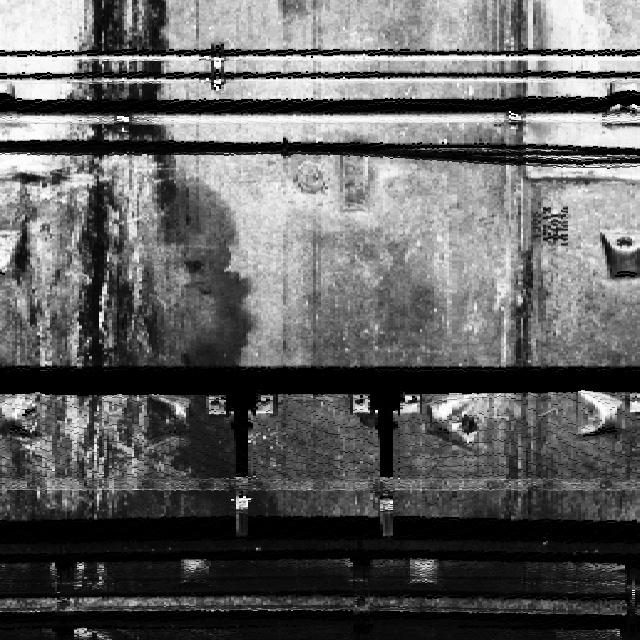leakage: (0, 0, 259, 517), (493, 2, 556, 521)
